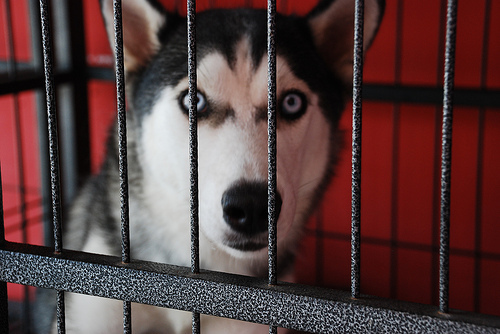dog: (21, 1, 384, 333)
